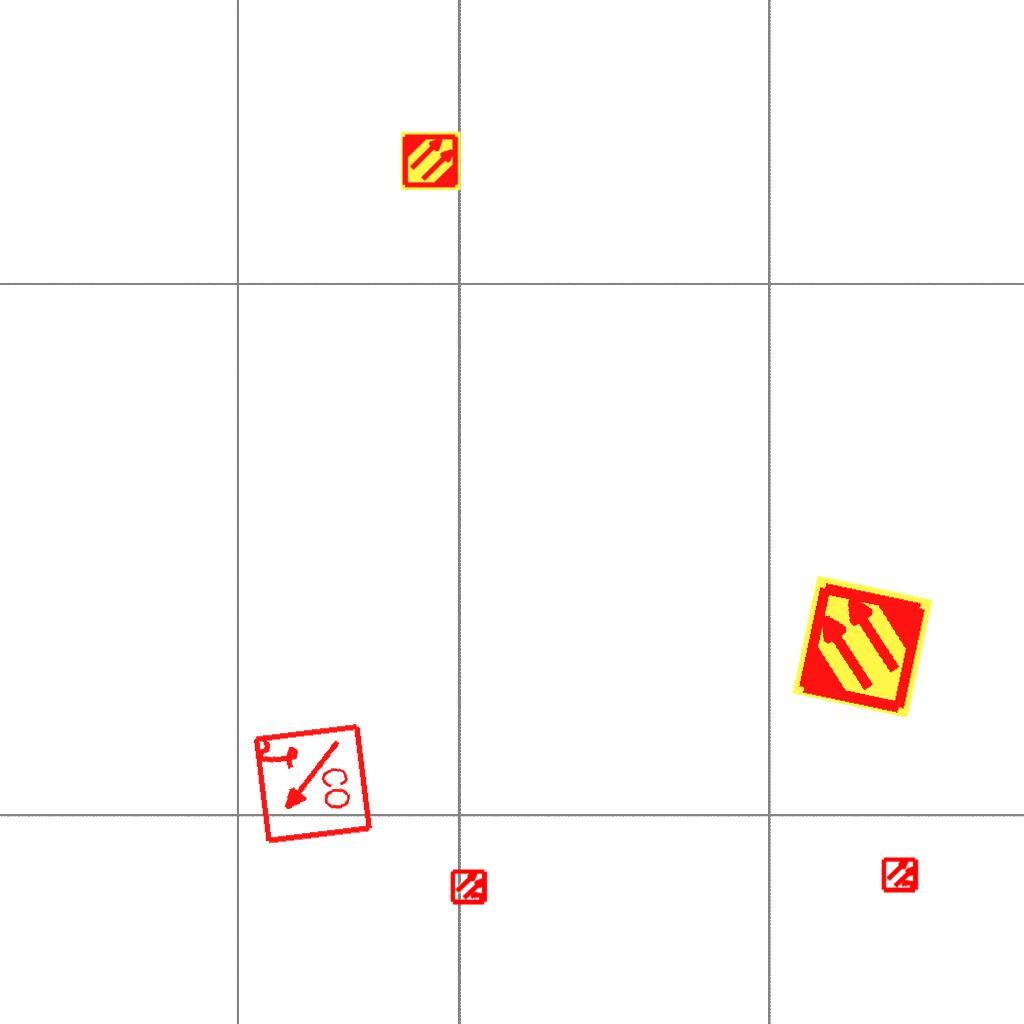ASR_Ansaugrauchmelder: (788, 572, 937, 721), (400, 130, 462, 192)
OT_Multisensormelder_(Kombination_RMO_WMD): (873, 847, 929, 903), (442, 859, 498, 915)
ROA_Rauchmelder_optisch_mit_Signalgeber_(Sockelsirene): (248, 721, 375, 848)
